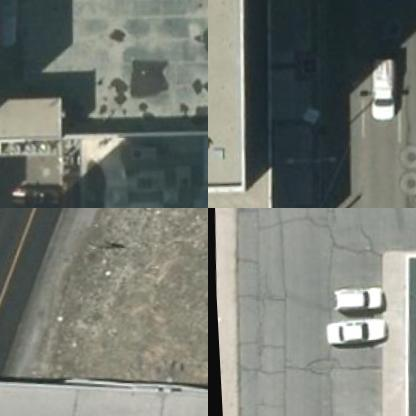car: (360, 53, 404, 122), (0, 176, 63, 207), (326, 314, 383, 347), (332, 284, 384, 313)
